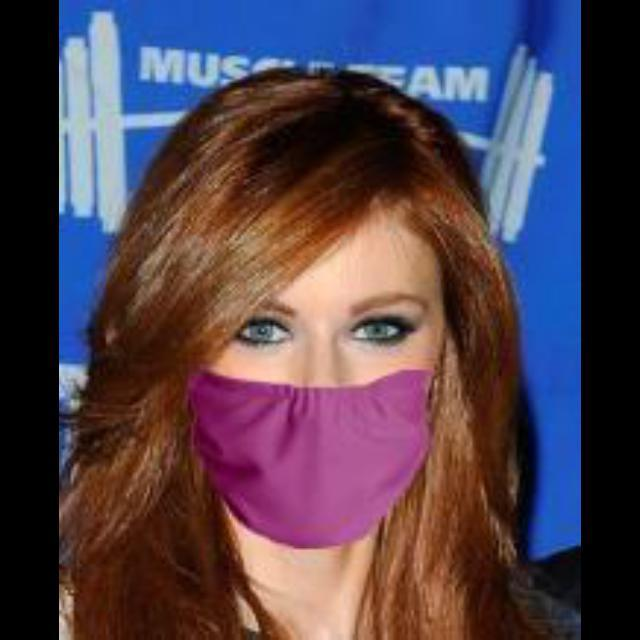suspicion: (154, 150, 468, 542)
